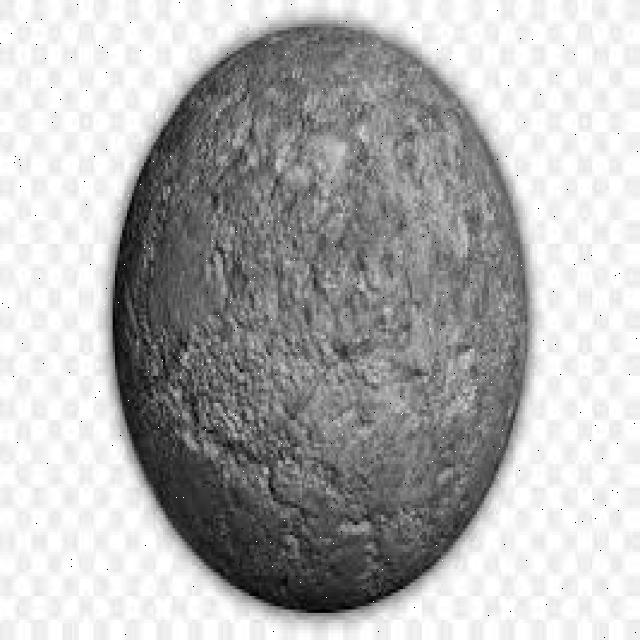Metamorphic: (110, 24, 532, 616)
